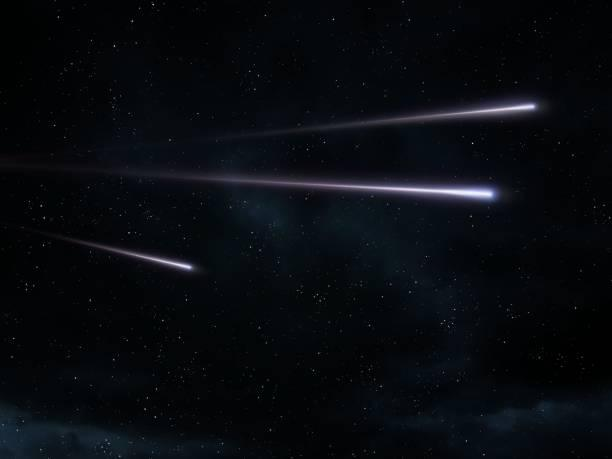meteor: (475, 178, 511, 206), (525, 94, 552, 116), (182, 257, 202, 277)
